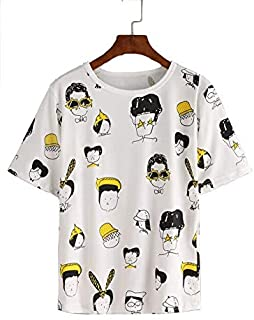tshirt: (5, 62, 251, 316)
